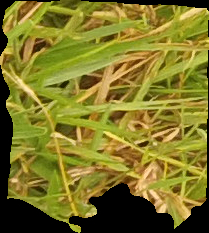grass: (1, 1, 208, 232)
